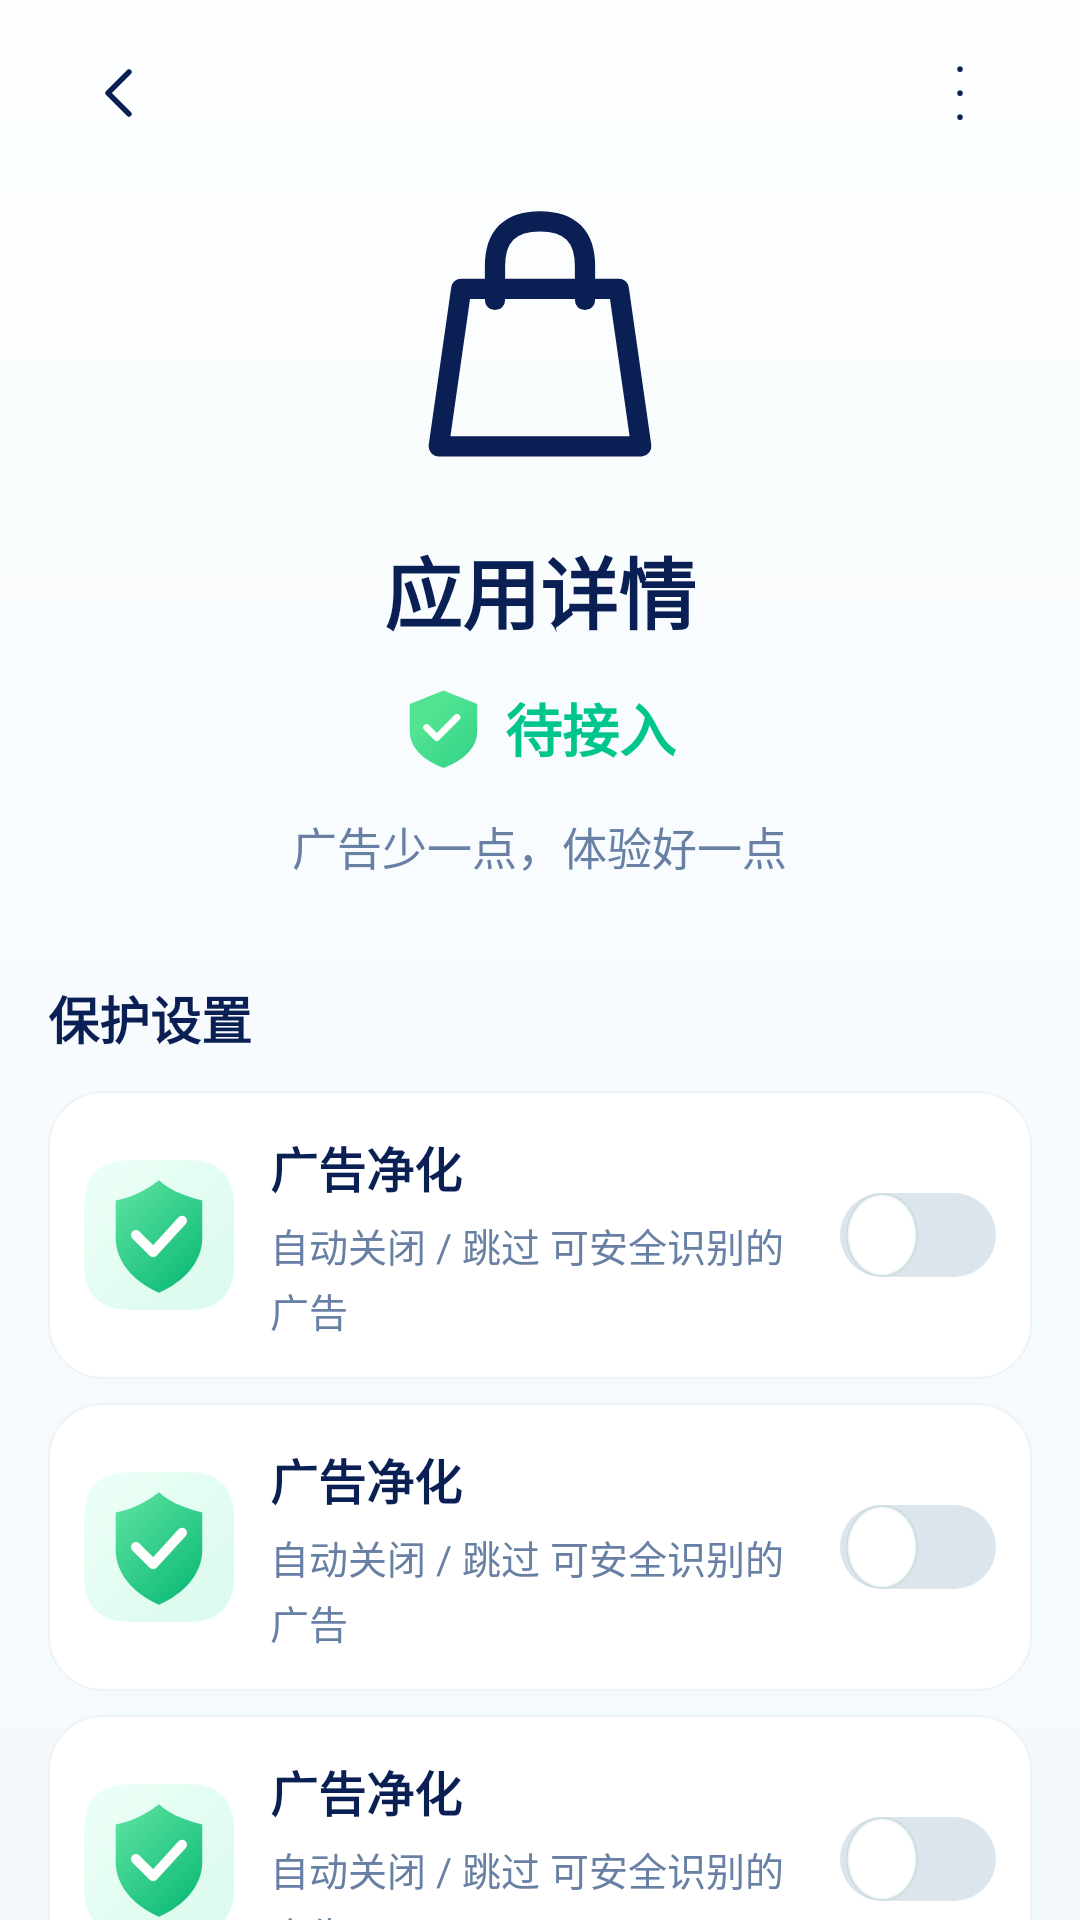

Icon click points for this 1080px x 1920px phone screenshot, format (x=x, y=y):
bag: (x=540, y=334)
status shield: (x=443, y=729)
返回: (x=118, y=93)
